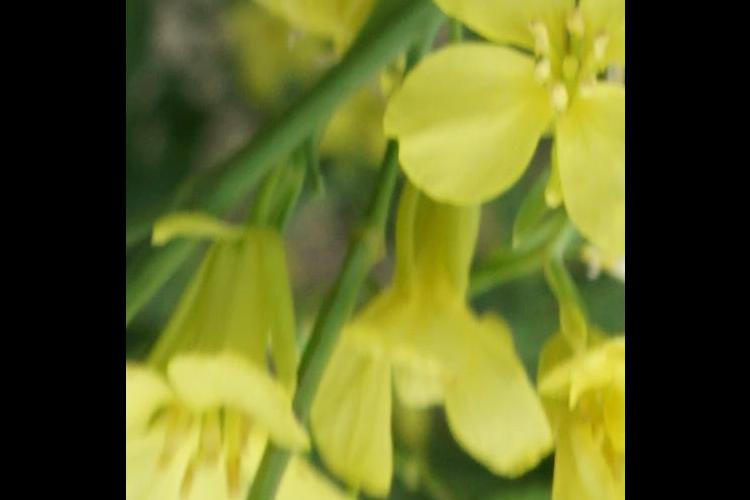yellow: (131, 215, 334, 500), (344, 178, 523, 500), (396, 1, 620, 241), (517, 230, 616, 500)
